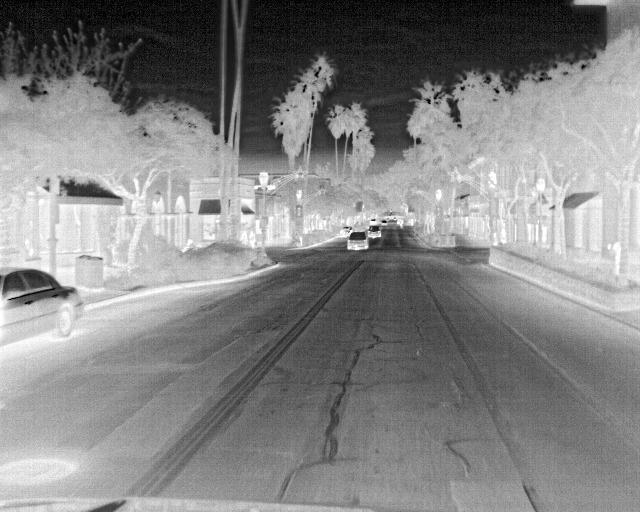car: (1, 262, 82, 350), (347, 231, 370, 252), (367, 225, 381, 240)
